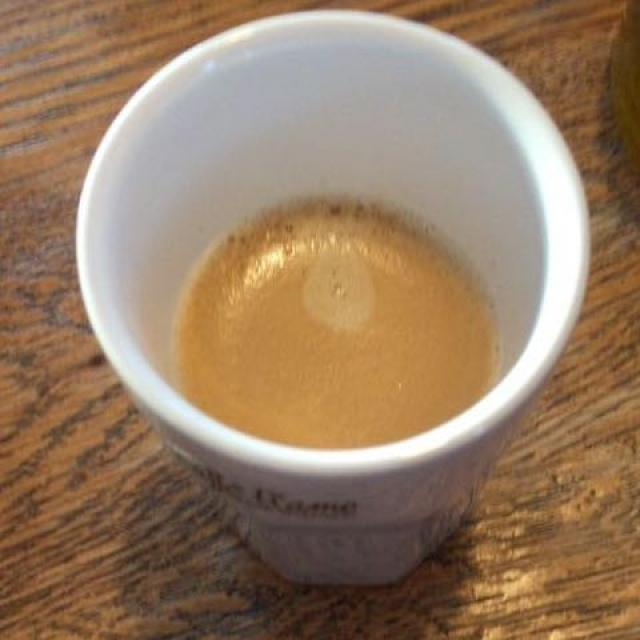drink: (170, 205, 498, 438)
